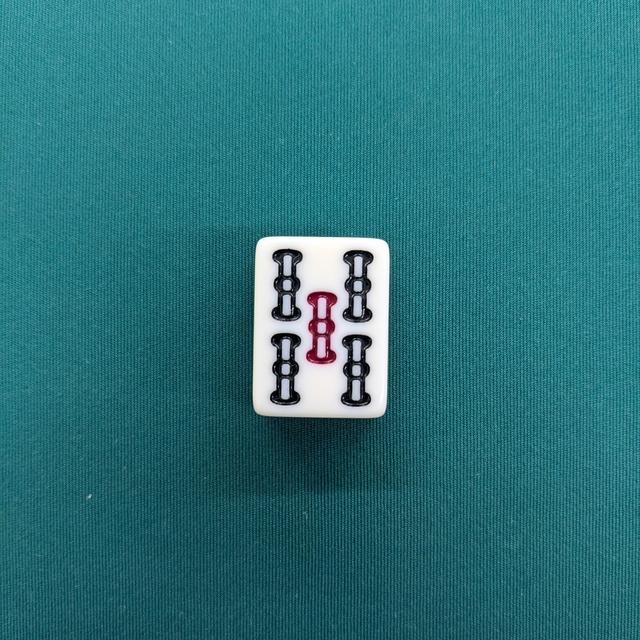5s: (253, 232, 388, 420)
